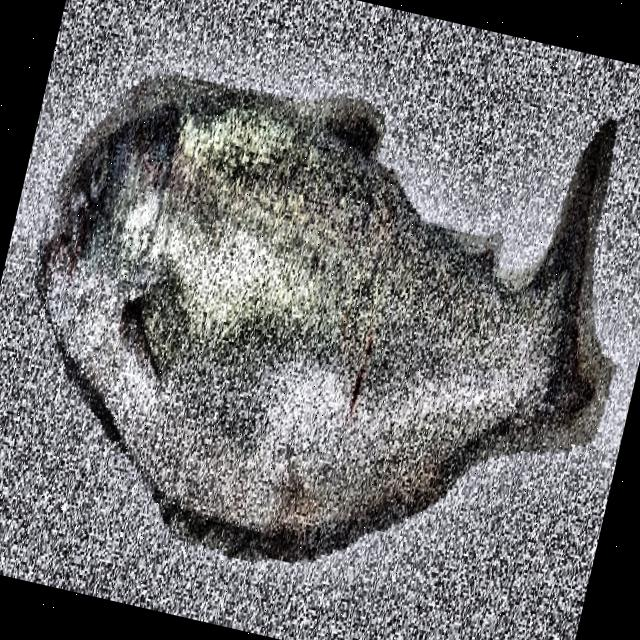mild_red: (351, 340, 371, 409)
